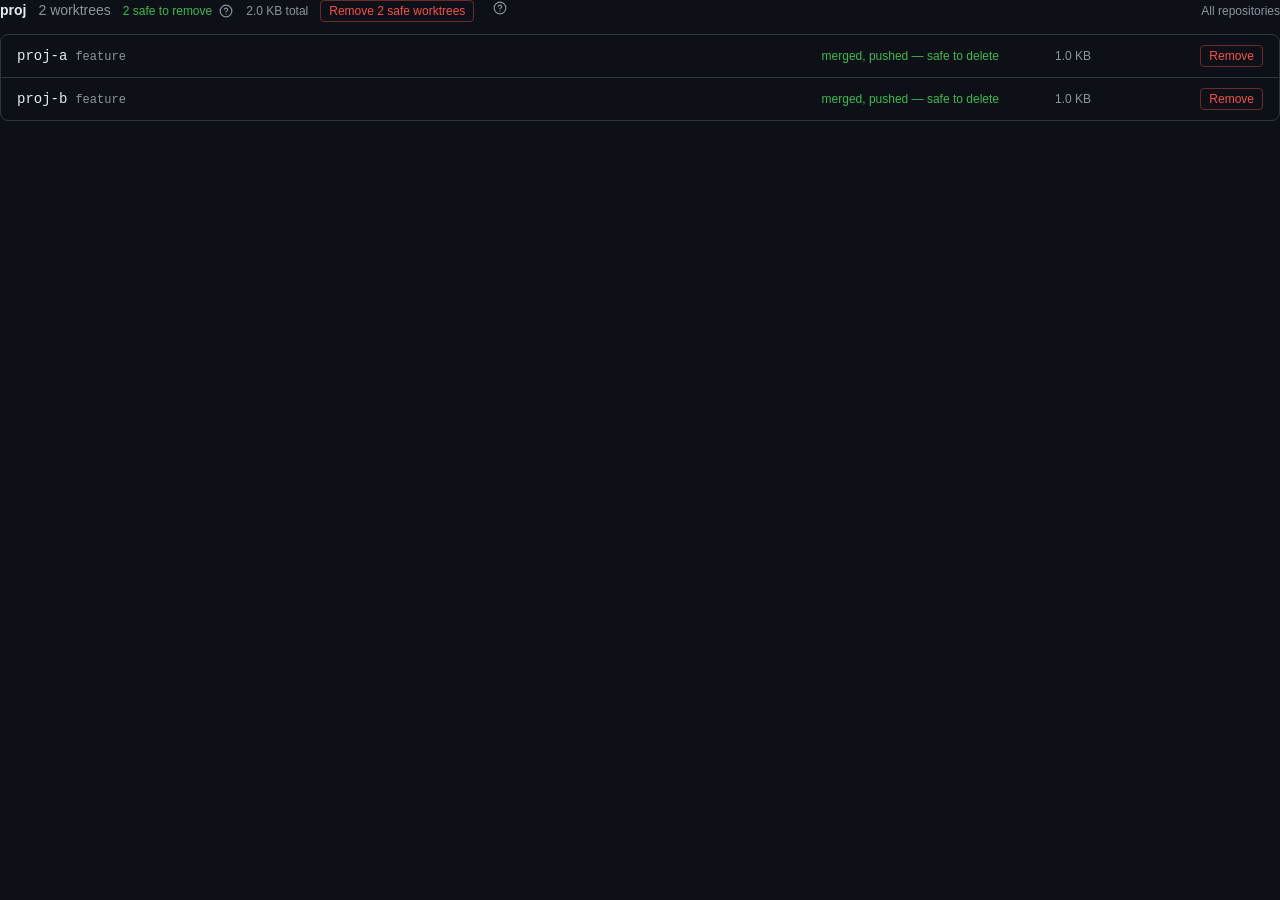
WorktreesPage › removal feedback › leaves other rows clickable while one is being removed
The width and height of the screenshot is (1280, 900).
Click the button "Remove" in the row of "proj-a" at (1232, 56), box [1200,45,1263,67]
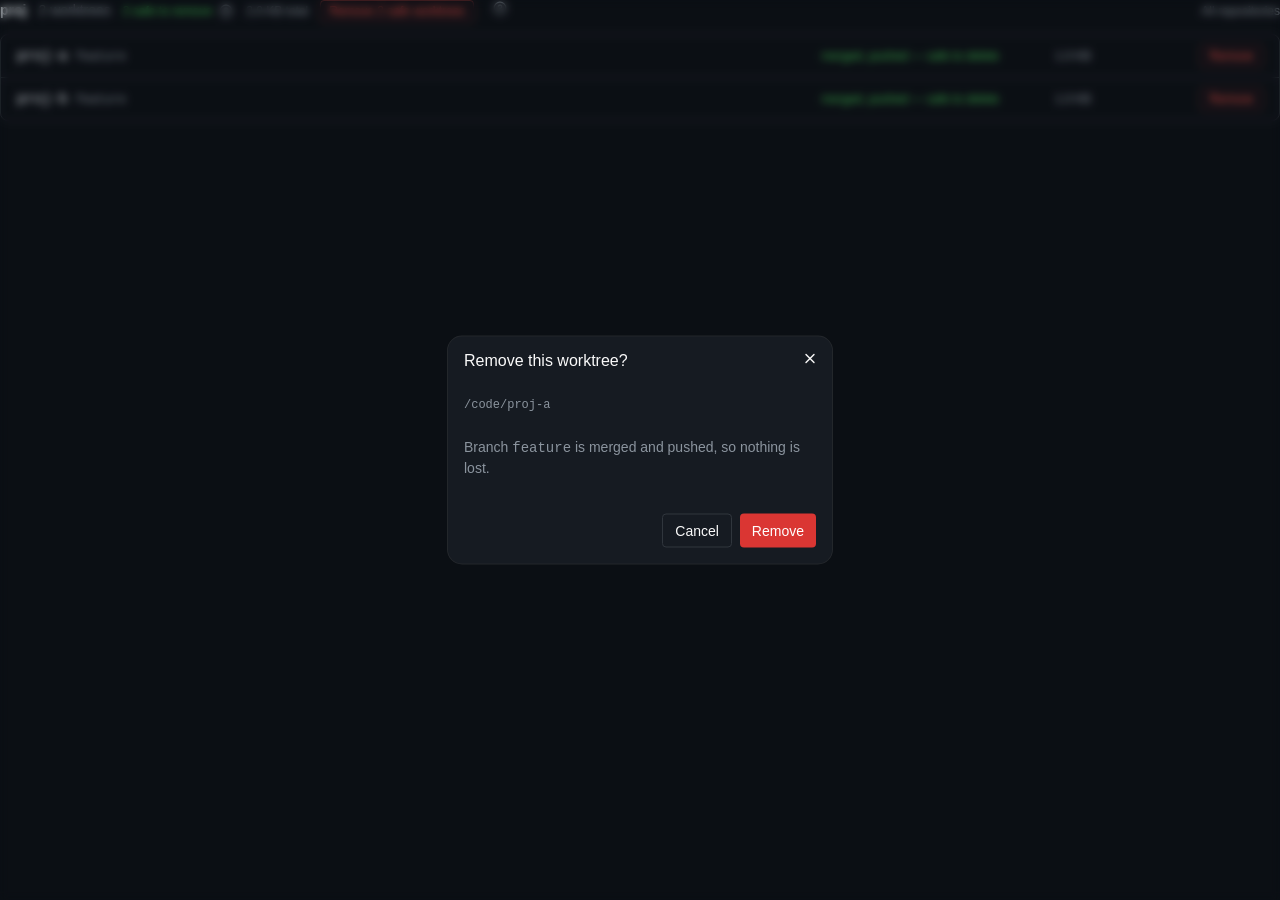
Click the button "Remove" at (778, 530), box [740,514,816,548]
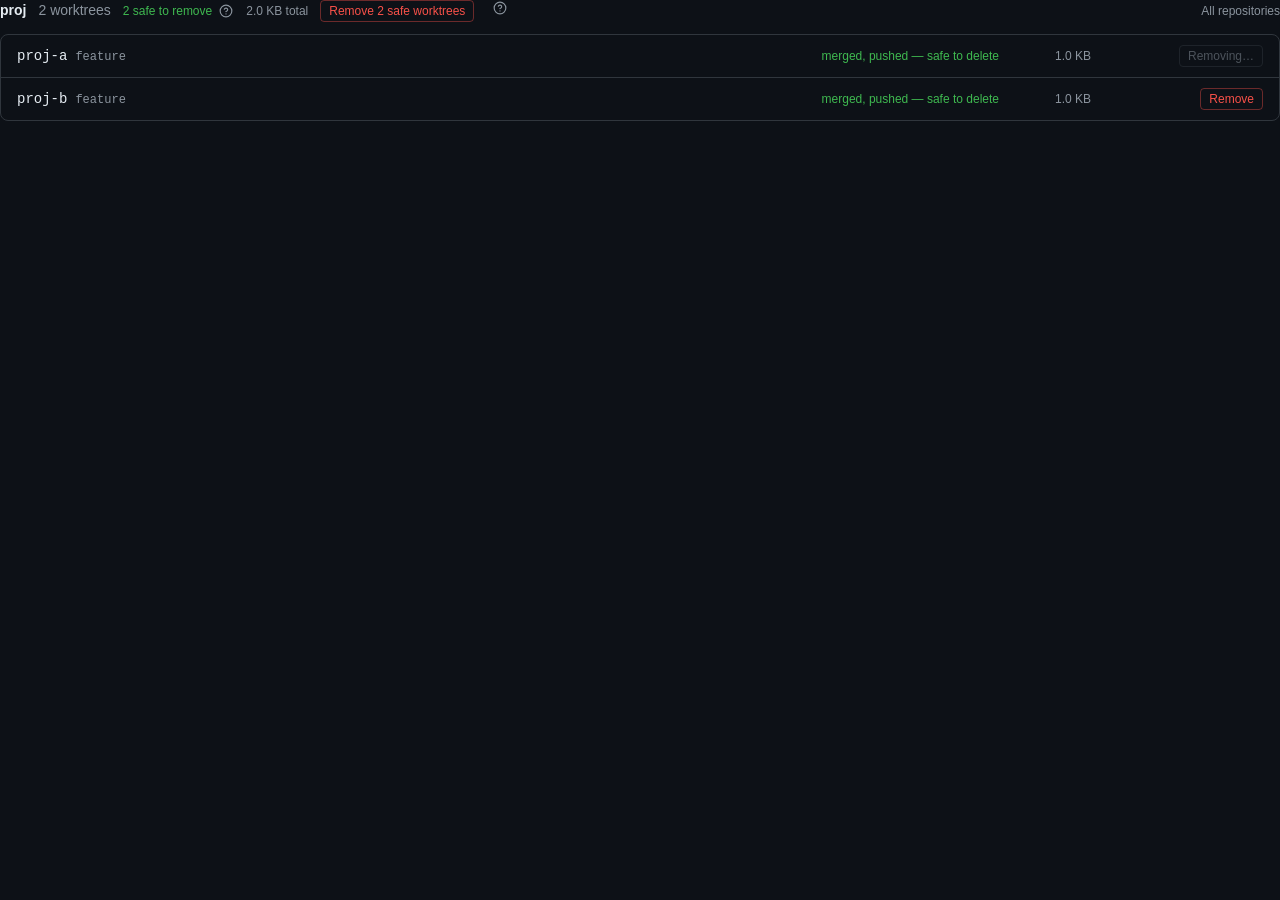
Check: the number of buttons "Remove" is 1, box [1200,88,1263,110]
Check: the button "Removing…" is shown, box [1179,45,1263,67]
